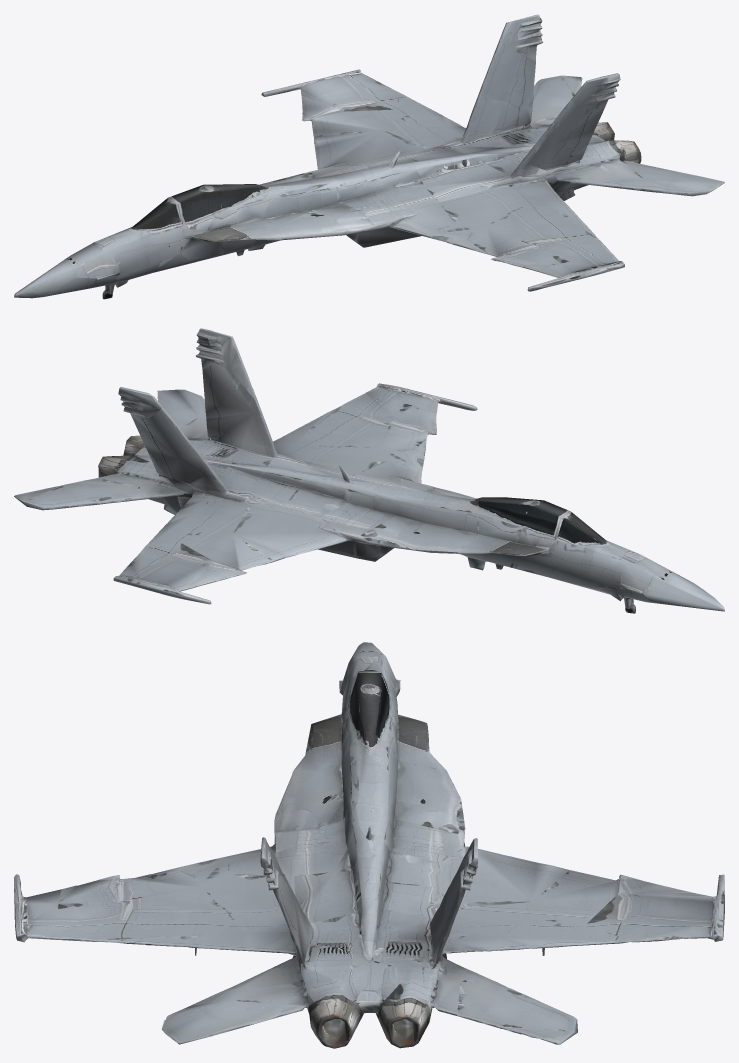
Rendered from fa-18e-super-hornet-meshy6-web-wingman-v1.glb.
3 renders of one model, top to bottom at view 1: azimuth 30°, elevation 25°; view 2: azimuth 150°, elevation 25°; view 3: azimuth 270°, elevation 25°, orthographic. The views are drawn at different scales.
Size of the model in its own units: 1.9 by 0.4155 by 1.38.
1 material, 1 textured.
